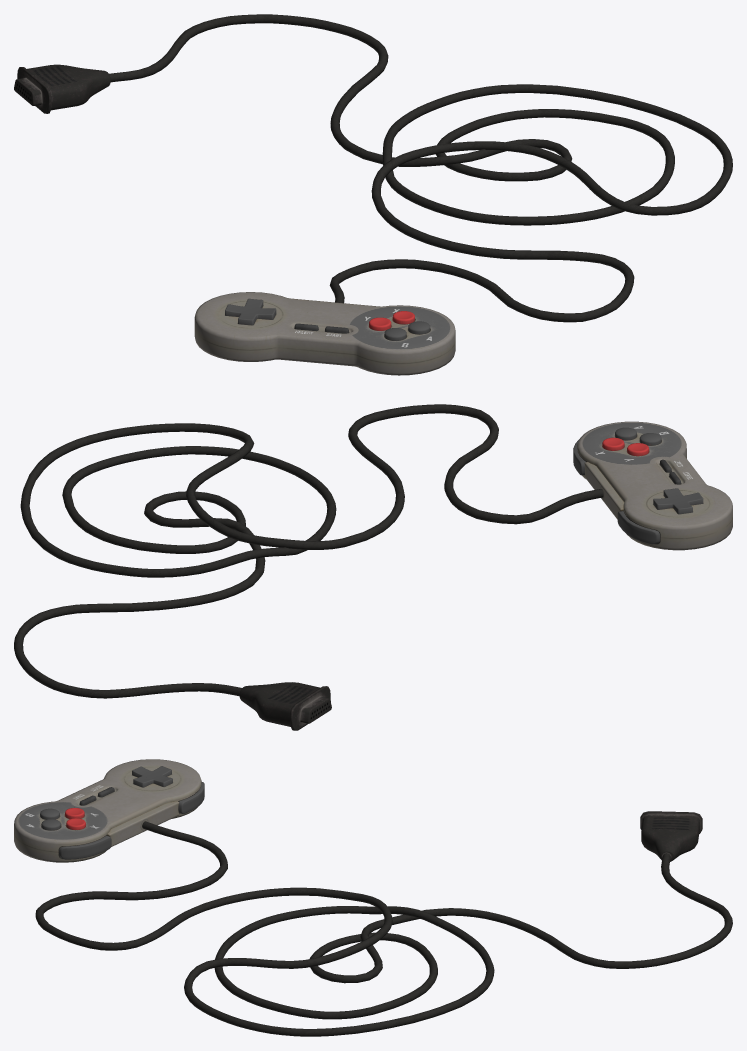
File: gamepad_1k.obj
The picture shows the model from 3 angles, top to bottom: view 1: azimuth 30°, elevation 25°; view 2: azimuth 150°, elevation 25°; view 3: azimuth 270°, elevation 25°; orthographic projection. The views are drawn at different scales.
Visible parts, largest first — view 1: gamepad; view 2: gamepad; view 3: gamepad.
Part boxes in pixels (x1,y1,x2,y2): gamepad: [14, 14, 732, 375]; gamepad: [14, 404, 732, 730]; gamepad: [14, 759, 732, 1036].
Bounding box in the file's own units: 0.5362 × 0.0268 × 0.6318.
